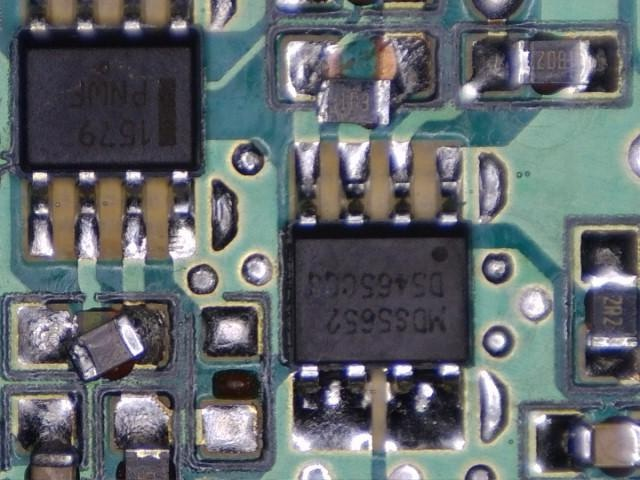pcb_defect: (287, 36, 431, 125), (16, 305, 164, 384), (17, 399, 79, 480), (114, 396, 171, 480)
